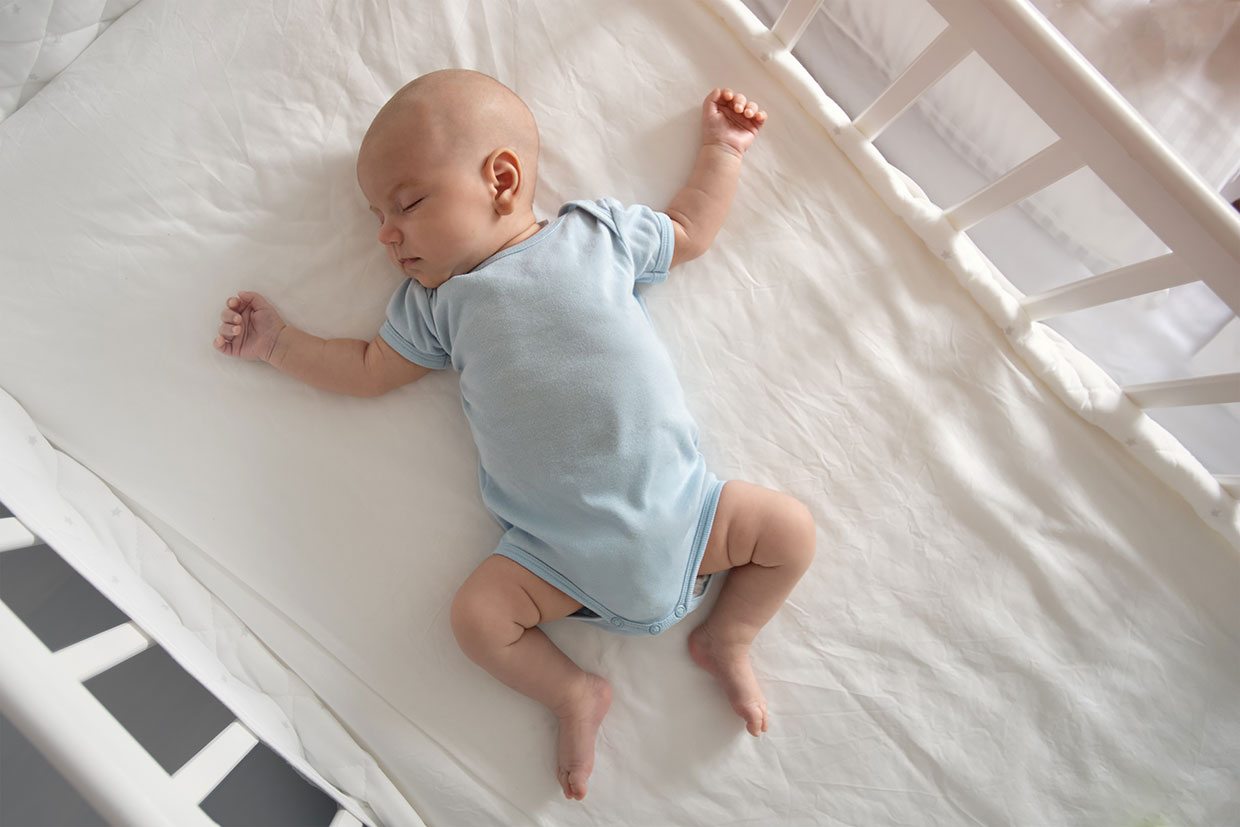baby: (214, 70, 814, 798)
crib: (0, 0, 1239, 823)
